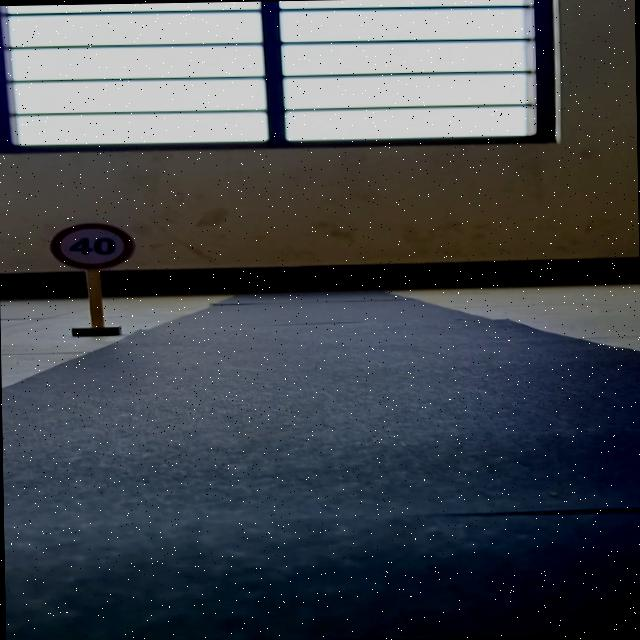Speed40: (49, 216, 139, 269)
